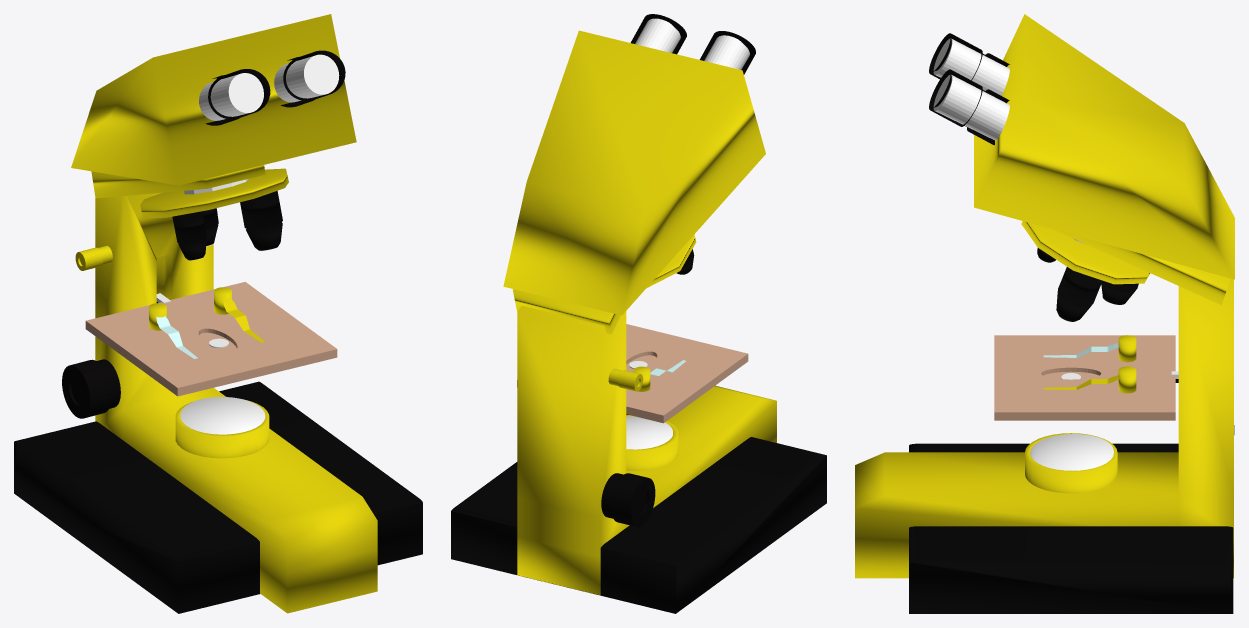
The model's file is microscope3000edxx.glb.
3 renders of one model, left to right at view 1: azimuth 30°, elevation 25°; view 2: azimuth 150°, elevation 25°; view 3: azimuth 270°, elevation 25°, orthographic. The views are drawn at different scales.
Visible parts, largest first — view 1: Cylinder.007, Cylinder.006, Cylinder.009, Cylinder.020, Cylinder.003, Cylinder.025, Cylinder.028, Cylinder.027, Cylinder.008, Cylinder.018, Cylinder.016, Cylinder.011 (+4 smaller); view 2: Cylinder.009, Cylinder.007, Cylinder.006, Cylinder.020, Cylinder.025, Cylinder.008, Cylinder.027, Cylinder.028, Cylinder.018, Cylinder.016, Cylinder.003, Cylinder.026 (+2 smaller); view 3: Cylinder.009, Cylinder.007, Cylinder.006, Cylinder.020, Cylinder.003, Cylinder.018, Cylinder.008, Cylinder.027, Cylinder.028, Cylinder.016, Cylinder.011, Cylinder.017 (+2 smaller).
Part boxes in pixels (x1=…): Cylinder.007: x1=95, y1=192, x2=377, y2=613; Cylinder.006: x1=14, y1=381, x2=422, y2=613; Cylinder.009: x1=71, y1=14, x2=356, y2=185; Cylinder.020: x1=85, y1=282, x2=337, y2=396; Cylinder.003: x1=140, y1=168, x2=288, y2=218; Cylinder.025: x1=62, y1=359, x2=120, y2=418; Cylinder.028: x1=180, y1=397, x2=265, y2=434; Cylinder.027: x1=175, y1=399, x2=269, y2=458; Cylinder.008: x1=91, y1=165, x2=265, y2=198; Cylinder.018: x1=274, y1=54, x2=339, y2=102; Cylinder.016: x1=199, y1=73, x2=263, y2=120; Cylinder.011: x1=240, y1=190, x2=282, y2=250; Cylinder.009: x1=503, y1=30, x2=765, y2=315; Cylinder.007: x1=517, y1=305, x2=776, y2=595; Cylinder.006: x1=451, y1=414, x2=826, y2=613; Cylinder.020: x1=517, y1=324, x2=748, y2=423; Cylinder.025: x1=601, y1=473, x2=655, y2=527; Cylinder.008: x1=513, y1=289, x2=620, y2=334; Cylinder.027: x1=626, y1=415, x2=678, y2=470; Cylinder.028: x1=626, y1=416, x2=672, y2=449; Cylinder.018: x1=635, y1=18, x2=680, y2=52; Cylinder.016: x1=704, y1=35, x2=749, y2=69; Cylinder.003: x1=646, y1=234, x2=696, y2=288; Cylinder.026: x1=608, y1=368, x2=643, y2=391; Cylinder.009: x1=974, y1=14, x2=1234, y2=279; Cylinder.007: x1=855, y1=278, x2=1233, y2=578; Cylinder.006: x1=909, y1=443, x2=1233, y2=613; Cylinder.020: x1=994, y1=335, x2=1175, y2=420; Cylinder.003: x1=1021, y1=221, x2=1150, y2=284; Cylinder.018: x1=933, y1=74, x2=1009, y2=140; Cylinder.008: x1=1054, y1=229, x2=1230, y2=304; Cylinder.027: x1=1025, y1=433, x2=1117, y2=493; Cylinder.028: x1=1030, y1=434, x2=1113, y2=470; Cylinder.016: x1=933, y1=38, x2=1009, y2=95; Cylinder.011: x1=1056, y1=267, x2=1102, y2=321; Cylinder.017: x1=929, y1=69, x2=1009, y2=145.
Bounding box in the file's own units: 0.1497 × 0.2975 × 0.2044.
27 materials, 1 textured.
